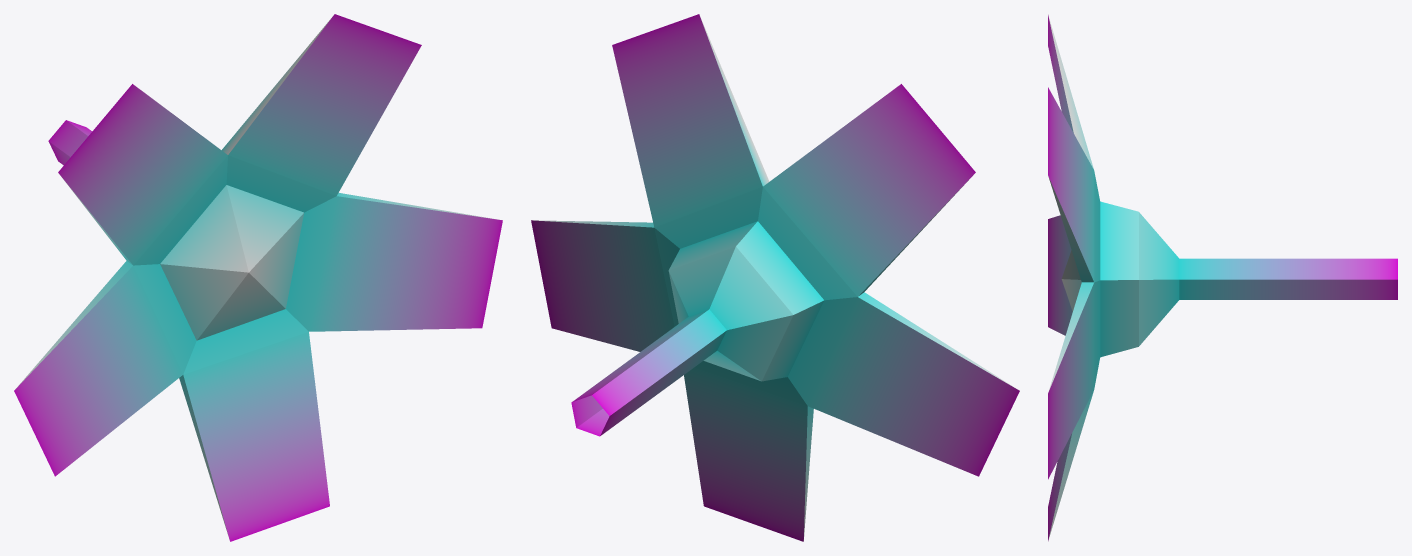
The model's file is NewFlower.fbx.
3 renders of one model, left to right at view 1: azimuth 30°, elevation 25°; view 2: azimuth 150°, elevation 25°; view 3: azimuth 270°, elevation 25°, orthographic. The views are drawn at different scales.
Parts seen in each view (by area): view 1: Flower; view 2: Flower; view 3: Flower.
Part boxes in pixels (x1,y1,x2,y2): Flower: (14, 14, 502, 541); Flower: (531, 14, 1019, 541); Flower: (1048, 14, 1397, 541).
Bounding box in the file's own units: 1.23 × 1.2 × 0.8166.
